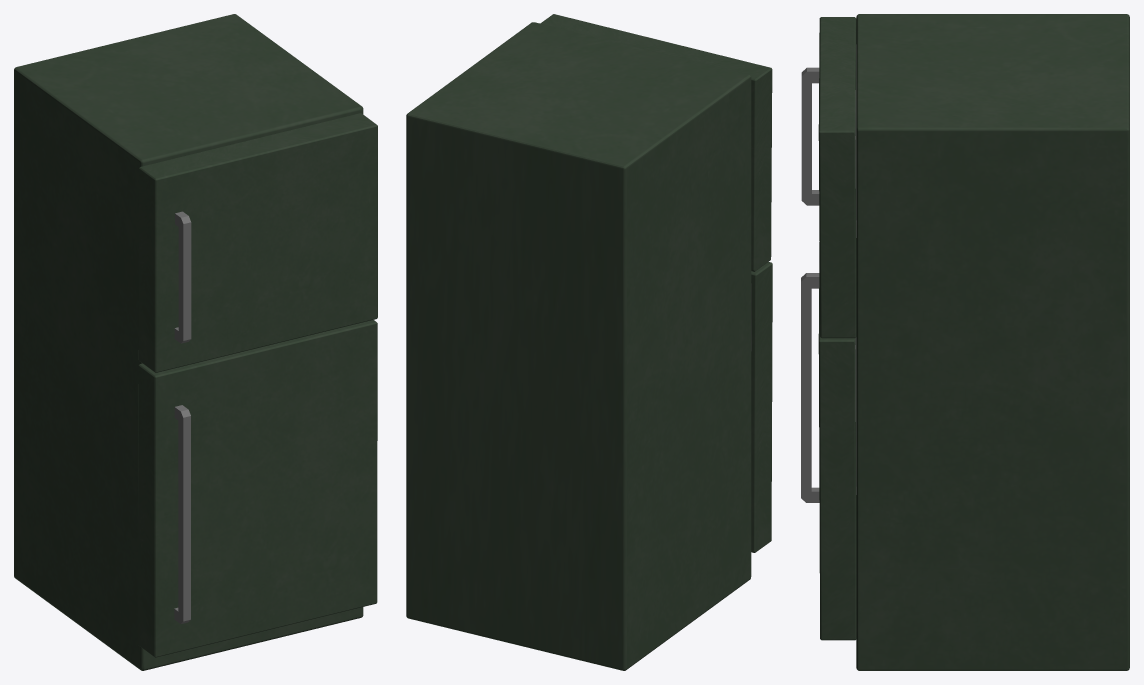
The model's file is Fridge.fbx.
The picture shows the model from 3 angles, left to right: view 1: azimuth 30°, elevation 25°; view 2: azimuth 150°, elevation 25°; view 3: azimuth 270°, elevation 25°; orthographic projection. The views are drawn at different scales.
Visible parts, largest first — view 1: FridgeShelf8, FridgeShelf7, FridgeDoor2; view 2: FridgeShelf8, FridgeDoor2, FridgeShelf7; view 3: FridgeShelf8, FridgeShelf7, FridgeDoor2.
Part boxes in pixels (x1,y1,x2,y2): FridgeShelf8: (14, 14, 363, 670); FridgeShelf7: (138, 320, 377, 657); FridgeDoor2: (138, 113, 377, 372); FridgeShelf8: (406, 22, 751, 670); FridgeDoor2: (540, 14, 772, 271); FridgeShelf7: (751, 262, 772, 552); FridgeShelf8: (856, 14, 1129, 670); FridgeShelf7: (801, 242, 856, 640); FridgeDoor2: (801, 17, 856, 338).
Size of the model in its own units: 0.8802 by 1.9 by 1.04.
